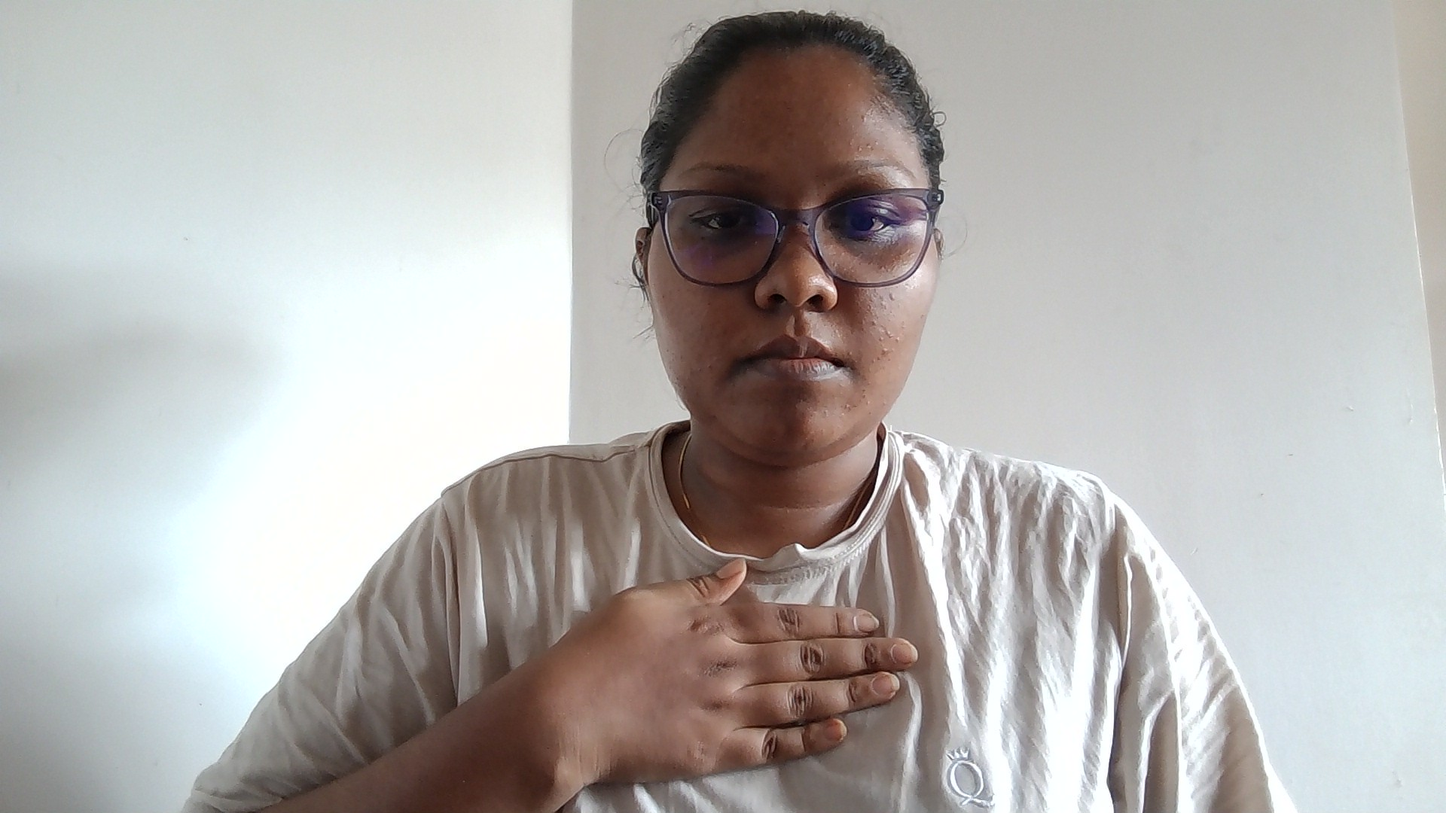Please: (497, 524, 959, 813)
